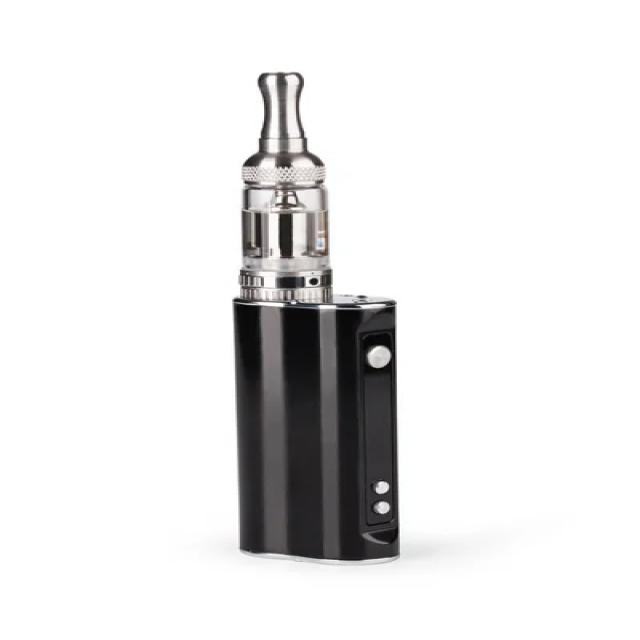Cigarette: (237, 72, 405, 566)
